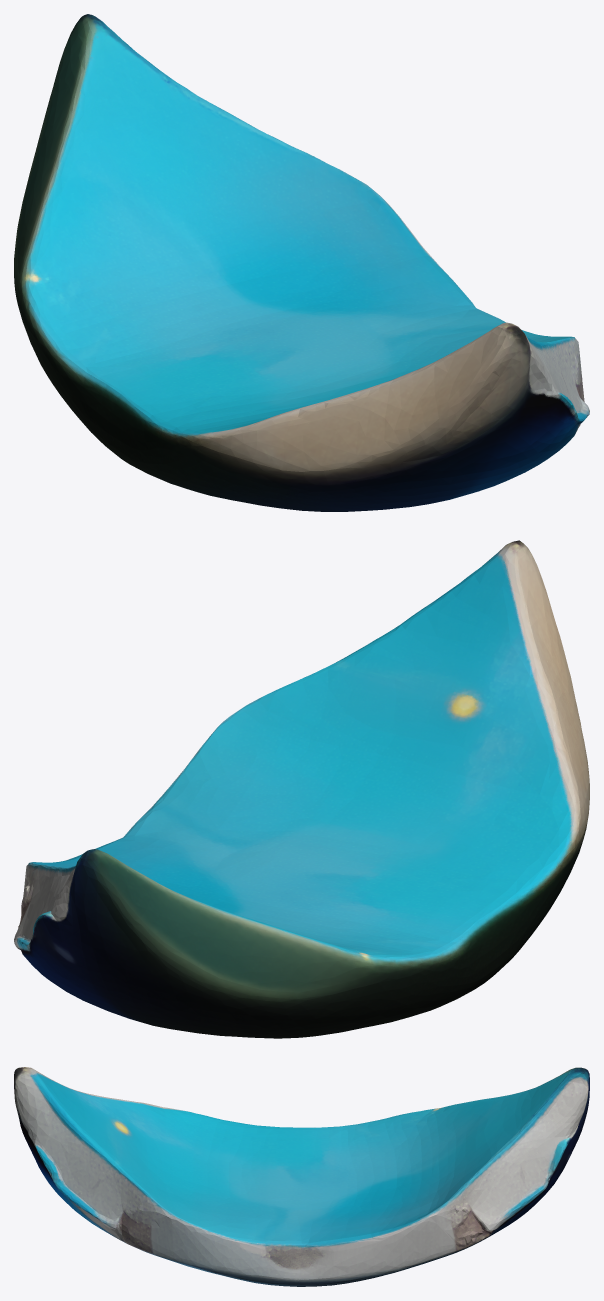
The model's file is shard5.glb.
3 views of the same model, one above another, from view 1: azimuth 30°, elevation 25°; view 2: azimuth 150°, elevation 25°; view 3: azimuth 270°, elevation 25° (orthographic). The views are drawn at different scales.
Visible parts, largest first — view 1: world; view 2: world; view 3: world.
Part boxes in pixels (bbox=[...]): world: bbox=[14, 14, 589, 511]; world: bbox=[14, 540, 589, 1038]; world: bbox=[14, 1067, 589, 1286].
Bounding box in the file's own units: 0.5108 × 0.327 × 0.9998.
Materials: 1 (1 with a texture image).
